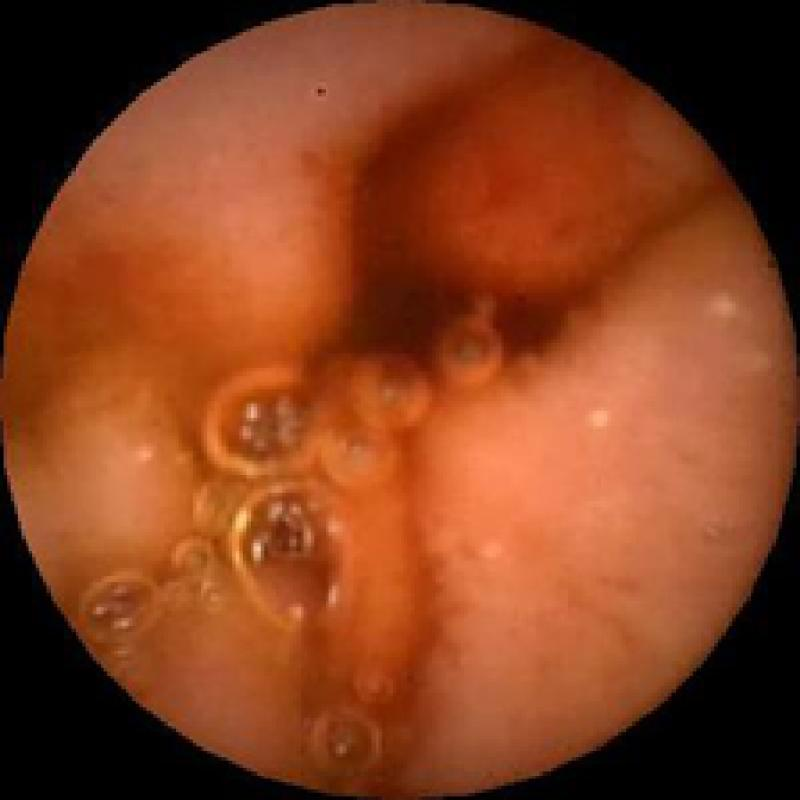bleeding: (118, 57, 614, 764)
